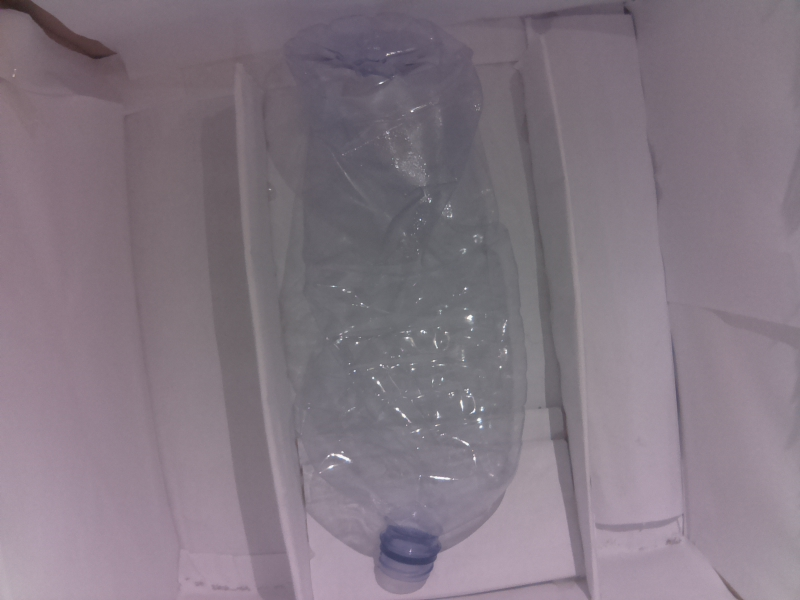botolplastik: (263, 14, 528, 581)
